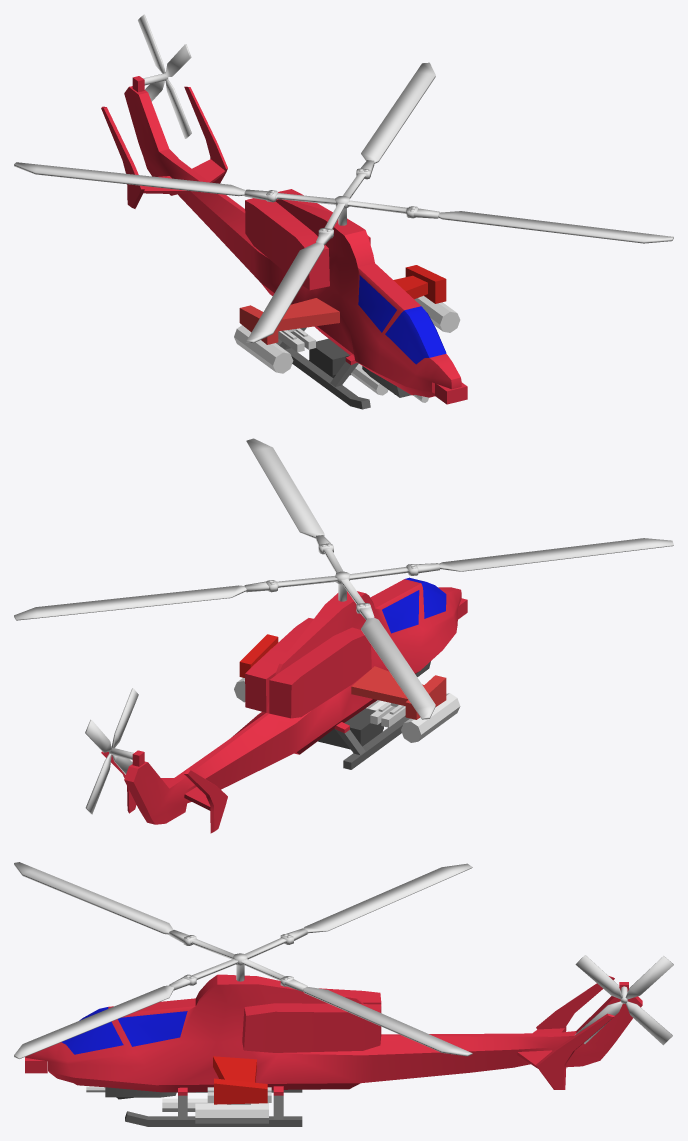
File: BossHelicopter.fbx
3 renders of one model, top to bottom at view 1: azimuth 30°, elevation 25°; view 2: azimuth 150°, elevation 25°; view 3: azimuth 270°, elevation 25°, orthographic. The views are drawn at different scales.
Parts seen in each view (by area): view 1: 2_Main_LOD1_00_low.002, 4_Screw_Main_LOD0_00_low.003, 2_Main_LOD1_00_low.001, 2_Main_LOD1_00_low.003, 3_Screw_Back_LOD0_00_low.003, HMG20_LOD0_00_low.002; view 2: 2_Main_LOD1_00_low.002, 4_Screw_Main_LOD0_00_low.003, 2_Main_LOD1_00_low.001, 3_Screw_Back_LOD0_00_low.003, HMG20_LOD0_00_low.002, 2_Main_LOD1_00_low.003; view 3: 2_Main_LOD1_00_low.002, 4_Screw_Main_LOD0_00_low.003, 2_Main_LOD1_00_low.003, 3_Screw_Back_LOD0_00_low.003, HMG20_LOD0_00_low.002.
Boxes of the visible parts, bbox=[...] form: 2_Main_LOD1_00_low.002: bbox=[101, 76, 467, 409]; 4_Screw_Main_LOD0_00_low.003: bbox=[14, 62, 673, 343]; 2_Main_LOD1_00_low.001: bbox=[234, 298, 339, 373]; 2_Main_LOD1_00_low.003: bbox=[393, 265, 460, 332]; 3_Screw_Back_LOD0_00_low.003: bbox=[138, 14, 191, 138]; HMG20_LOD0_00_low.002: bbox=[309, 338, 388, 395]; 2_Main_LOD1_00_low.002: bbox=[101, 577, 467, 833]; 4_Screw_Main_LOD0_00_low.003: bbox=[14, 438, 673, 719]; 2_Main_LOD1_00_low.001: bbox=[351, 666, 460, 742]; 3_Screw_Back_LOD0_00_low.003: bbox=[85, 688, 138, 814]; HMG20_LOD0_00_low.002: bbox=[318, 700, 387, 749]; 2_Main_LOD1_00_low.003: bbox=[234, 634, 278, 702]; 2_Main_LOD1_00_low.002: bbox=[25, 974, 642, 1126]; 4_Screw_Main_LOD0_00_low.003: bbox=[14, 862, 472, 1058]; 2_Main_LOD1_00_low.003: bbox=[195, 1056, 271, 1123]; 3_Screw_Back_LOD0_00_low.003: bbox=[574, 955, 673, 1045]; HMG20_LOD0_00_low.002: bbox=[162, 1098, 207, 1111].
Bounding box in the file's own units: 1047 × 1488 × 429.
